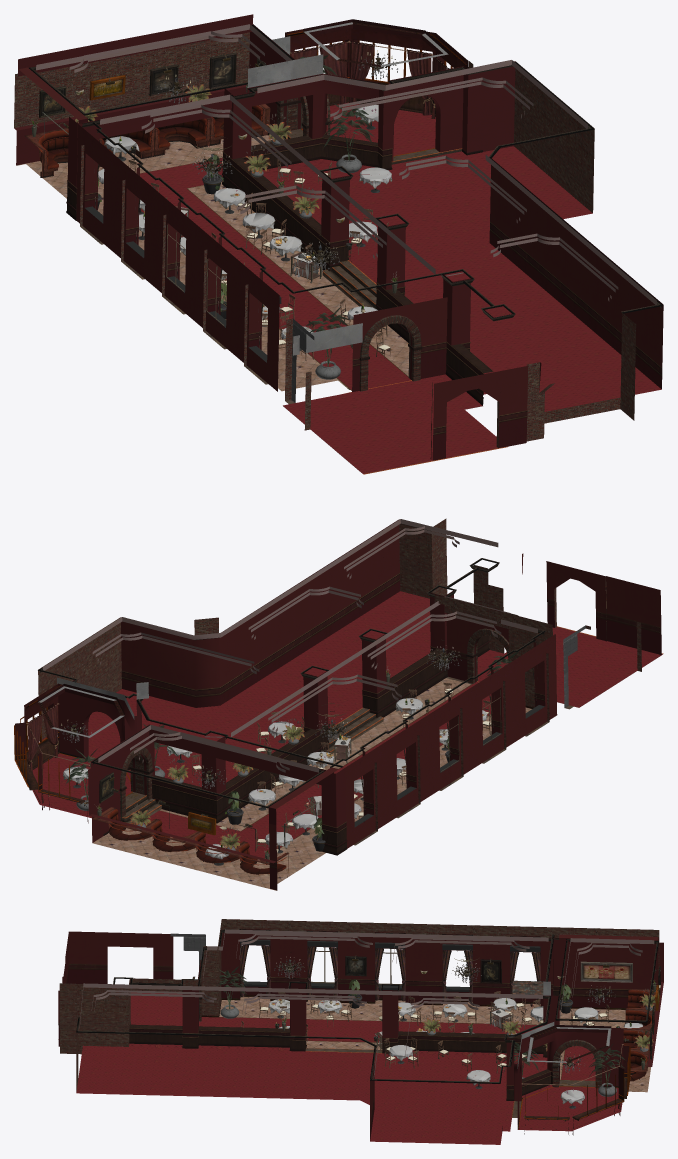
Rendered from diner.glb.
3 renders of one model, top to bottom at view 1: azimuth 30°, elevation 25°; view 2: azimuth 150°, elevation 25°; view 3: azimuth 270°, elevation 25°, orthographic. The views are drawn at different scales.
Parts seen in each view (by area): view 1: FrontSide_20, FrontSide_5, FrontSide_16, FrontSide_32, FrontSide_7, FrontSide_41, FrontSide_25, FrontSide_18, FrontSide_39, FrontSide_22, FrontSide_1, FrontSide_6 (+8 smaller); view 2: FrontSide_5, FrontSide_20, FrontSide_16, FrontSide_32, FrontSide_7, FrontSide_41, FrontSide_25, FrontSide_18, FrontSide_39, FrontSide_1, FrontSide_22, FrontSide_15 (+6 smaller); view 3: FrontSide_20, FrontSide_5, FrontSide_32, FrontSide_7, FrontSide_18, FrontSide_41, FrontSide_16, FrontSide_25, FrontSide_1, FrontSide_39, FrontSide_0, FrontSide_6 (+8 smaller).
Boxes of the visible parts, box(x1,y1,x2,y2) form: FrontSide_20: box(140, 102, 661, 473); FrontSide_5: box(19, 67, 663, 460); FrontSide_16: box(14, 14, 515, 345); FrontSide_32: box(14, 32, 636, 447); FrontSide_7: box(36, 24, 656, 304); FrontSide_41: box(66, 129, 507, 474); FrontSide_25: box(16, 135, 409, 391); FrontSide_18: box(29, 25, 662, 362); FrontSide_39: box(285, 19, 468, 156); FrontSide_22: box(25, 104, 270, 177); FrontSide_1: box(98, 104, 392, 350); FrontSide_6: box(75, 51, 374, 366); FrontSide_5: box(121, 519, 661, 890); FrontSide_20: box(32, 591, 662, 858); FrontSide_16: box(58, 590, 453, 863); FrontSide_32: box(38, 518, 641, 831); FrontSide_7: box(42, 519, 537, 772); FrontSide_41: box(59, 576, 663, 855); FrontSide_25: box(92, 678, 531, 890); FrontSide_18: box(38, 523, 544, 827); FrontSide_39: box(14, 684, 132, 804); FrontSide_1: box(63, 698, 487, 865); FrontSide_22: box(92, 807, 289, 877); FrontSide_15: box(119, 628, 509, 817); FrontSide_20: box(76, 992, 622, 1144); FrontSide_5: box(58, 928, 658, 1140); FrontSide_32: box(59, 919, 659, 1091); FrontSide_7: box(79, 929, 654, 1078); FrontSide_18: box(76, 929, 658, 1083); FrontSide_41: box(58, 984, 618, 1131); FrontSide_16: box(182, 939, 663, 1124); FrontSide_25: box(219, 996, 650, 1092); FrontSide_1: box(268, 998, 642, 1108); FrontSide_39: box(518, 1025, 630, 1129); FrontSide_0: box(240, 991, 609, 1073); FrontSide_6: box(217, 966, 659, 1087).
Size of the model in its own units: 24.92 by 6.23 by 42.26.
Materials: 45 (45 with a texture image).
